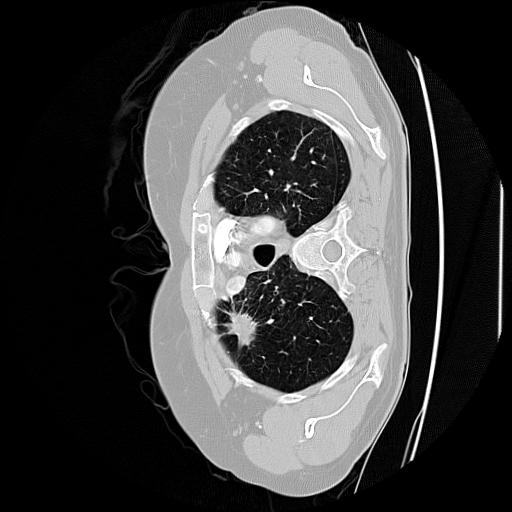nodule: (224, 310, 258, 344)
